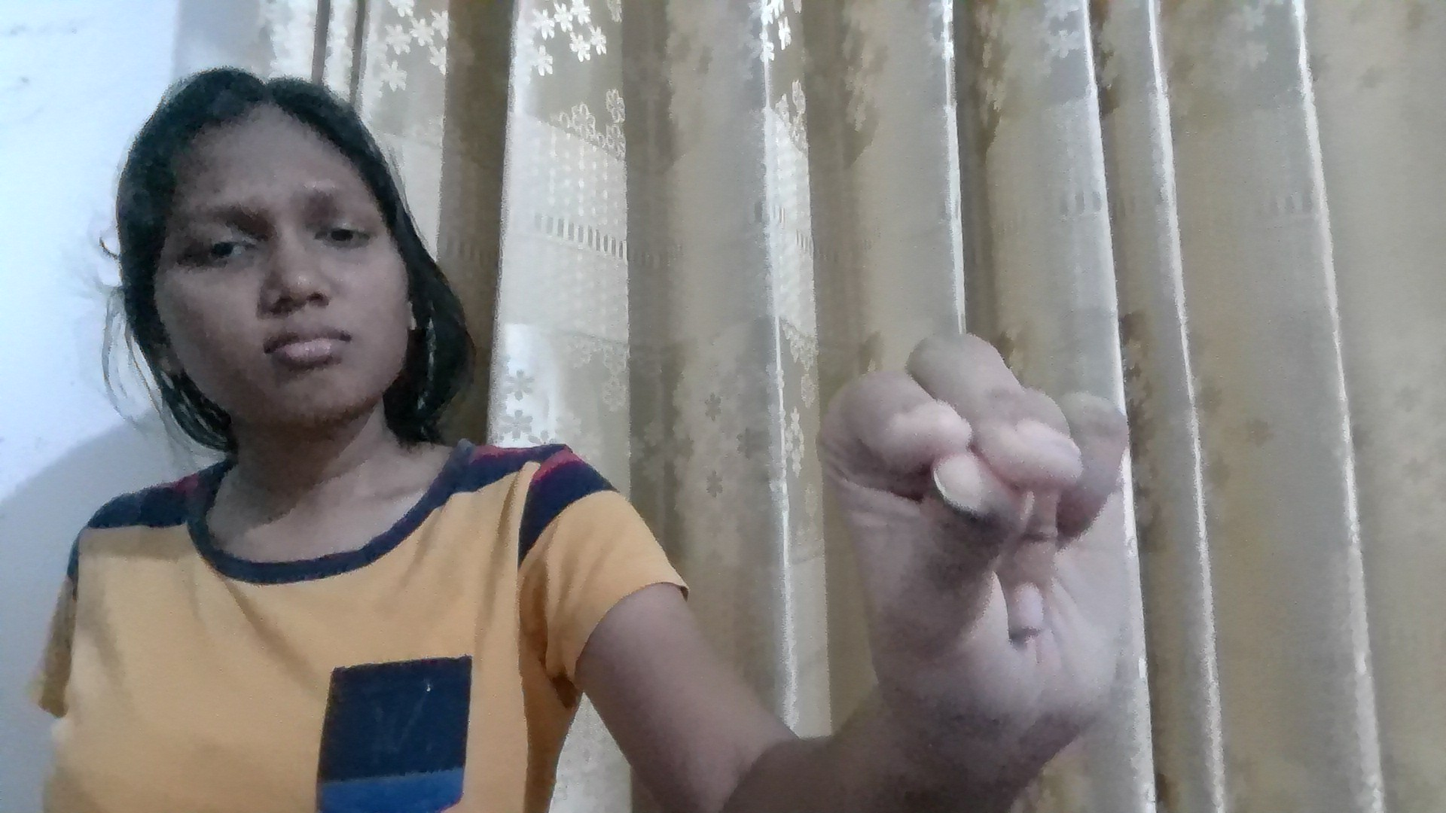No: (751, 255, 1318, 708)
